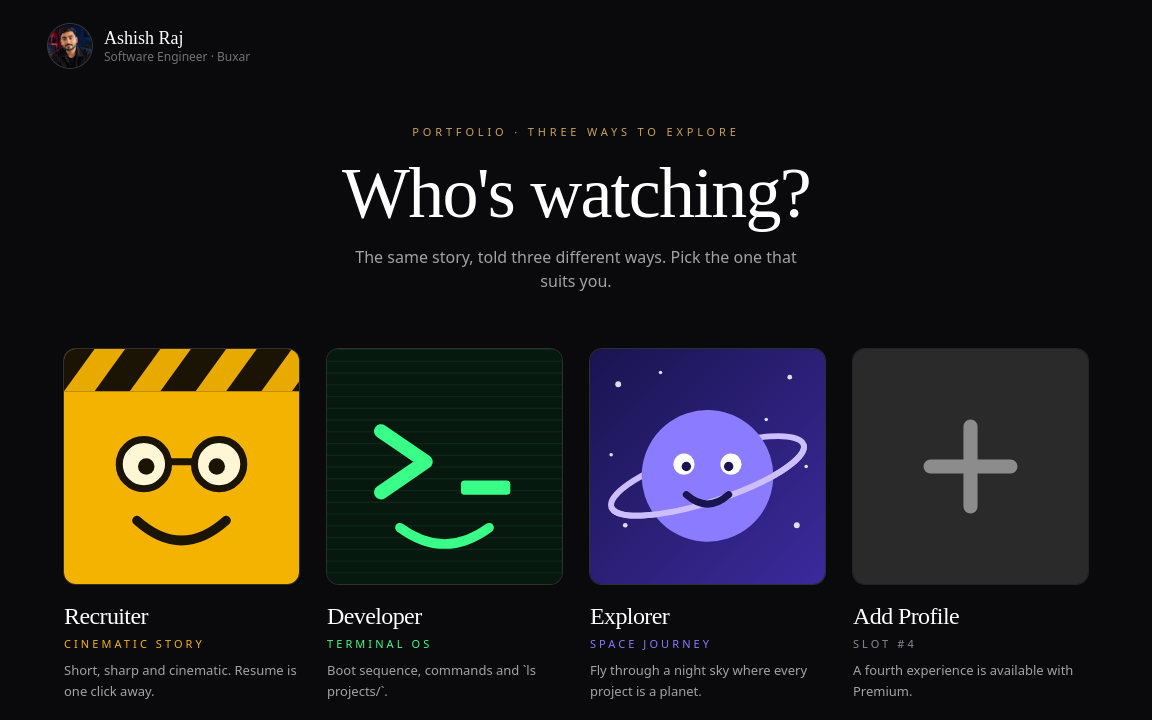
it: ProfileGrid › answers the Add Profile tile with a toast
What coordinates should you click on to do the following:
click the button "Add Profile"
I would click on:
 (970, 531)
Its box is [853, 348, 1088, 714].
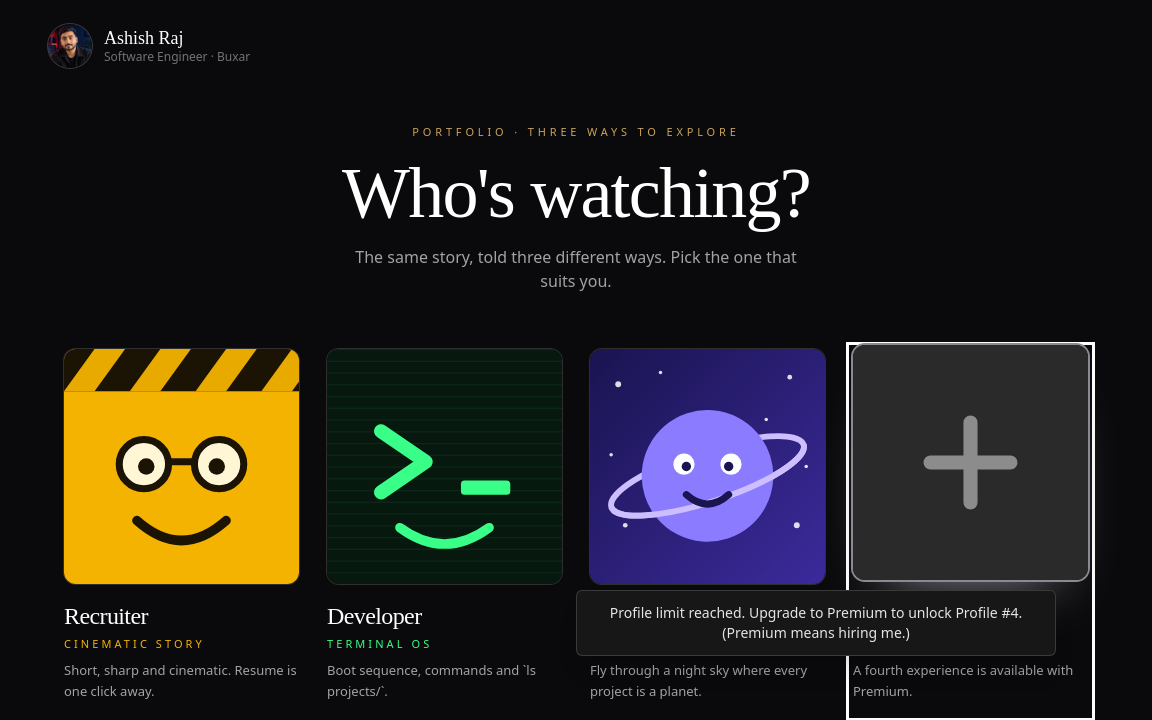
Check: the message is shown, box [576, 590, 1056, 656]
Check: the message shows "Profile limit reached. Upgrade to Premium to unlock Profile #4. (Premium means hiring me.)", box [610, 603, 1022, 642]
